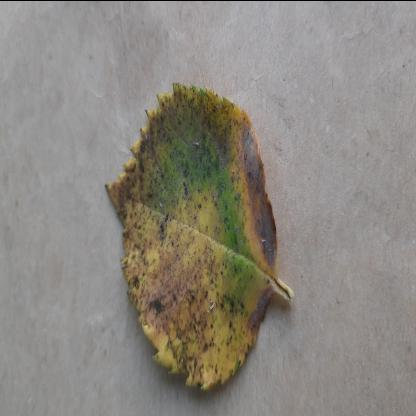black-spot: (104, 74, 276, 398)
